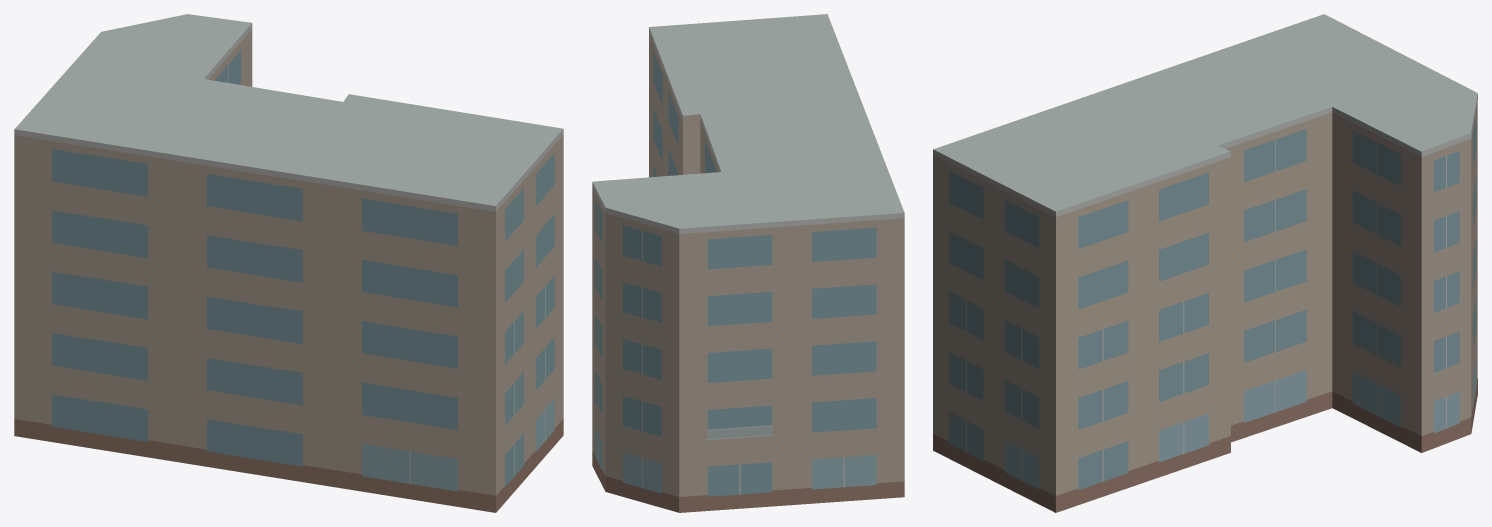
The model's file is survey-upis-32493437.glb.
3 views of the same model, side by side, from view 1: azimuth 30°, elevation 25°; view 2: azimuth 150°, elevation 25°; view 3: azimuth 270°, elevation 25° (orthographic). The views are drawn at different scales.
Parts seen in each view (by area): view 1: survey-upis-32493437.tmp; view 2: survey-upis-32493437.tmp; view 3: survey-upis-32493437.tmp.
Boxes of the visible parts, x1,y1,x2,y2 form: survey-upis-32493437.tmp: (14,14,563,512); survey-upis-32493437.tmp: (592,14,904,512); survey-upis-32493437.tmp: (933,14,1477,512).
Size of the model in its own units: 18.44 by 13.1 by 21.48.
